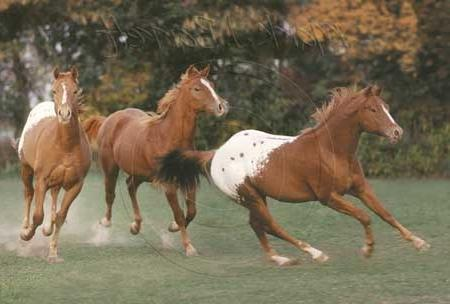horse: (153, 82, 431, 268), (94, 63, 229, 256), (16, 65, 91, 263)
